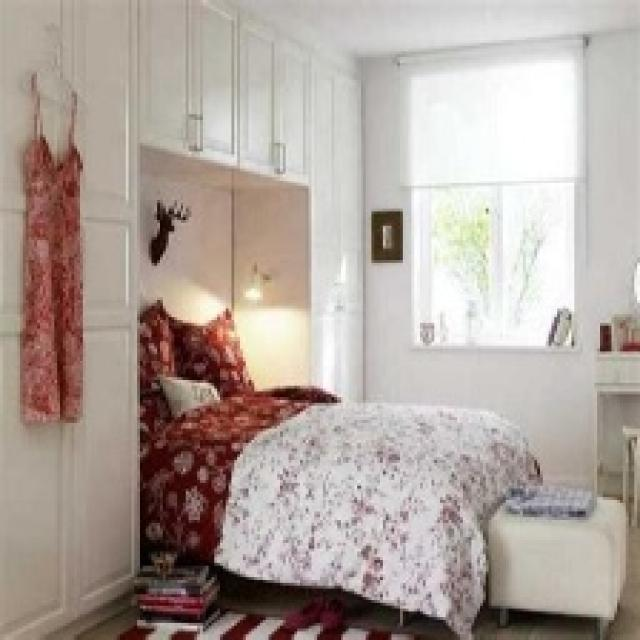bed: (140, 404, 477, 583)
seat: (485, 474, 634, 640)
